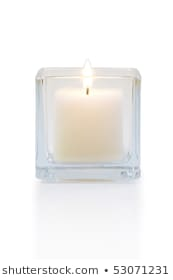Fire: (79, 58, 97, 91)
